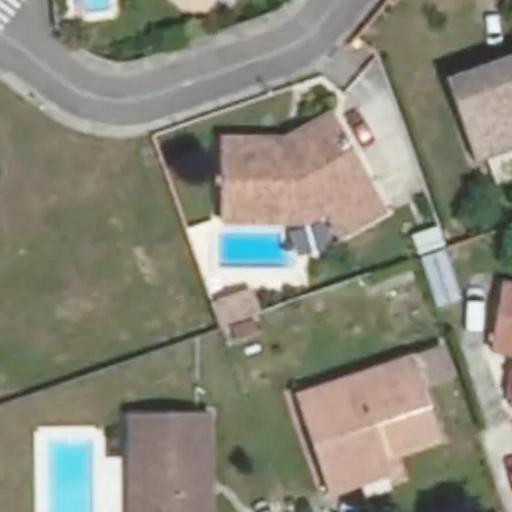pool: (217, 224, 294, 259)
